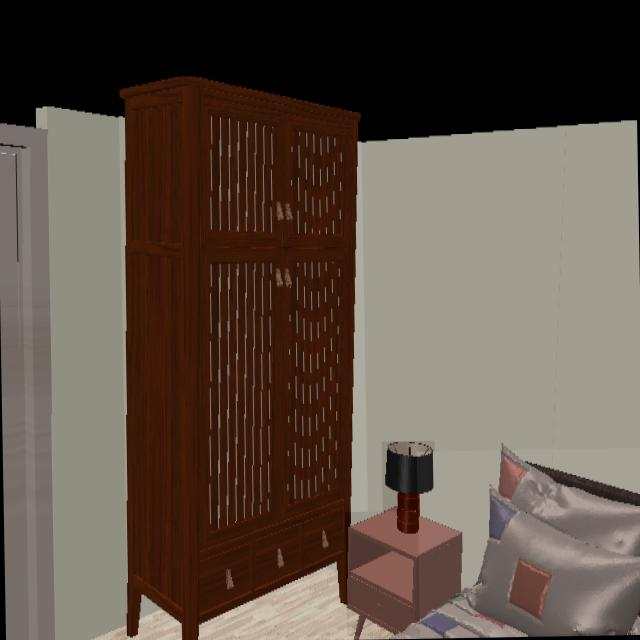lamp: (382, 441, 434, 538)
nighttable: (346, 511, 465, 635)
pillow: (419, 450, 640, 637)
wardrobe: (120, 77, 360, 640)
